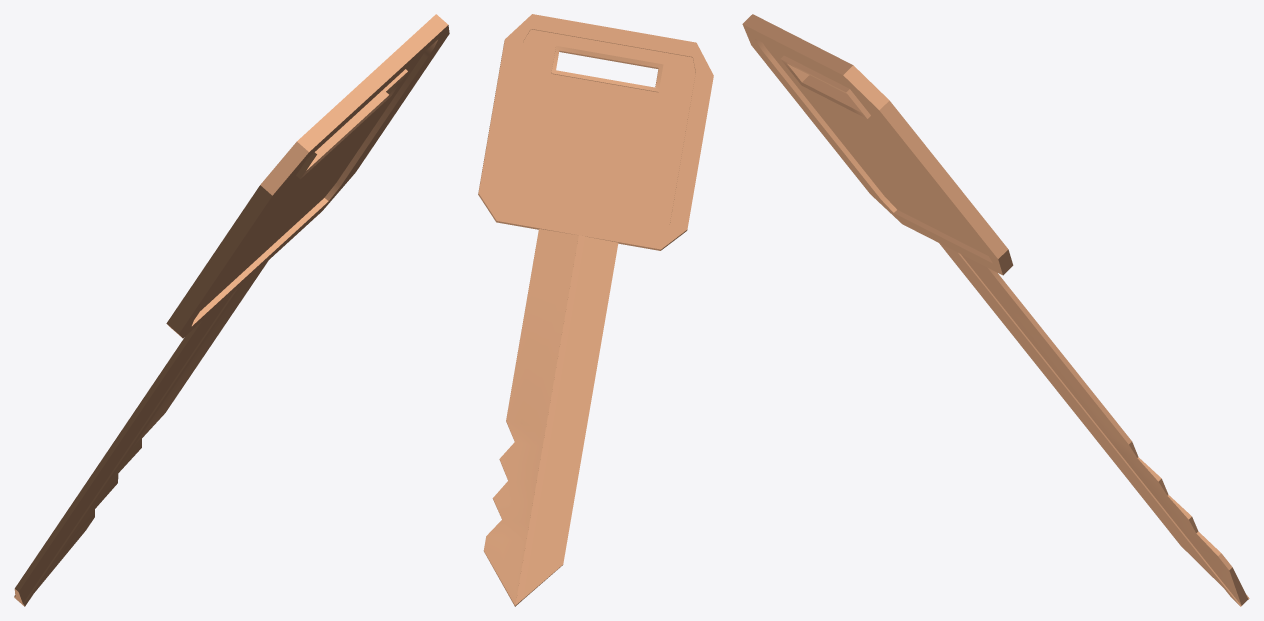
3 renders of one model, left to right at view 1: azimuth 30°, elevation 25°; view 2: azimuth 150°, elevation 25°; view 3: azimuth 270°, elevation 25°, orthographic. The views are drawn at different scales.
Parts seen in each view (by area): view 1: Wood Carving Disc 12 Teeth.001; view 2: Wood Carving Disc 12 Teeth.001; view 3: Wood Carving Disc 12 Teeth.001.
Part boxes in pixels (x1,y1,x2,y2): Wood Carving Disc 12 Teeth.001: (14, 14, 449, 606); Wood Carving Disc 12 Teeth.001: (478, 14, 713, 606); Wood Carving Disc 12 Teeth.001: (742, 14, 1249, 606).
Bounding box in the file's own units: 0.5286 × 1.26 × 0.9287.
